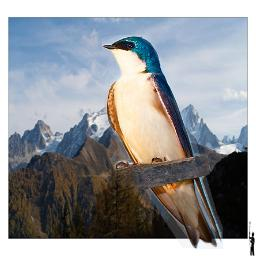Swallow: (102, 35, 223, 249)
